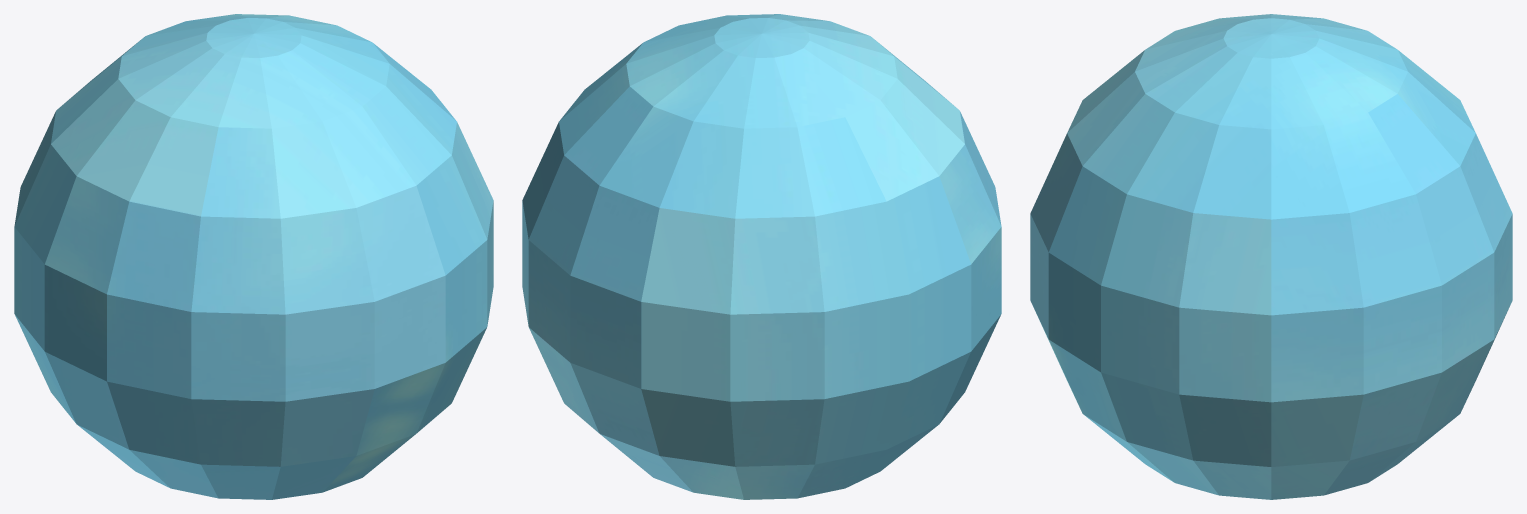
Rendered from Uranus.glb.
3 renders of one model, left to right at view 1: azimuth 30°, elevation 25°; view 2: azimuth 150°, elevation 25°; view 3: azimuth 270°, elevation 25°, orthographic.
Visible parts, largest first — view 1: Sphere; view 2: Sphere; view 3: Sphere.
Boxes of the visible parts, x1,y1,x2,y2 form: Sphere: (14,14,493,499); Sphere: (522,14,1001,499); Sphere: (1030,14,1512,499).
Size of the model in its own units: 1.96 by 2 by 1.96.
Materials: 1 (1 with a texture image).
